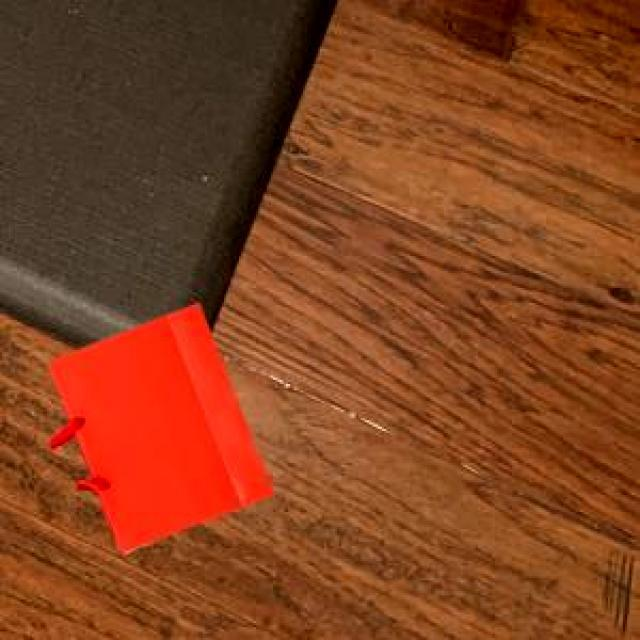Paper_Bag: (46, 300, 270, 550)
